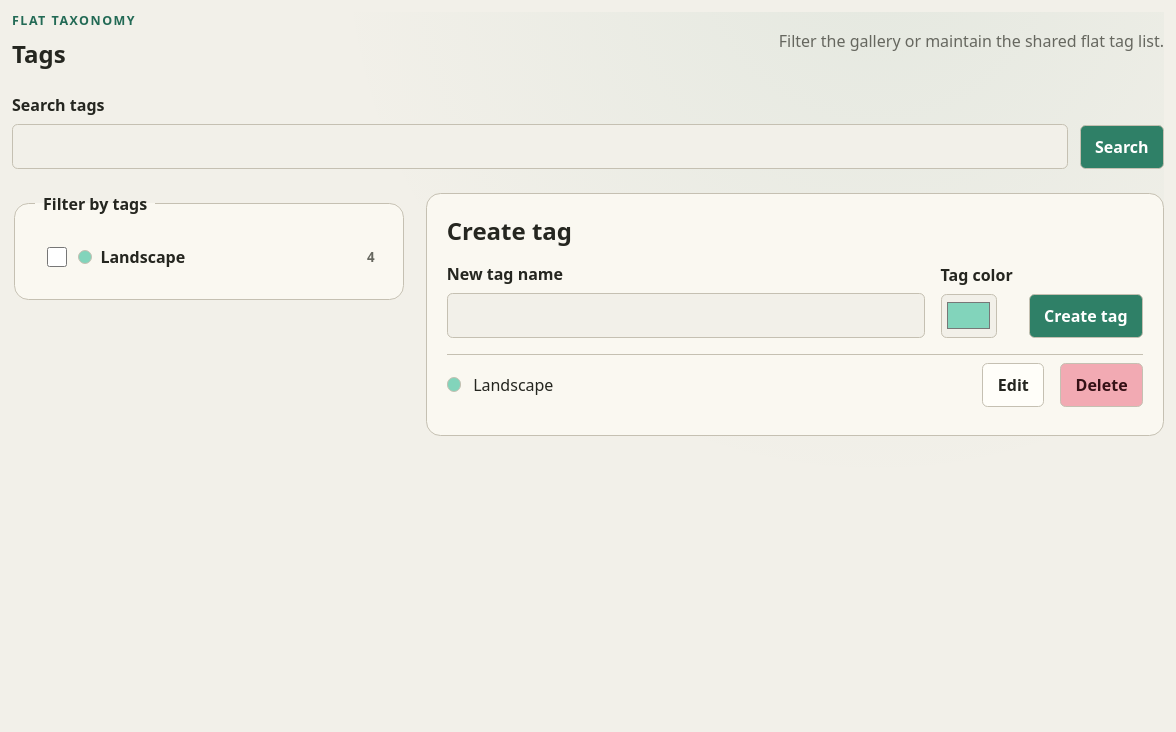
Test: curation tags › reconciles an optimistic tag edit after a conflict
Click the button with aria-label "Edit Landscape" at (1013, 385), box [982,363,1044,407]
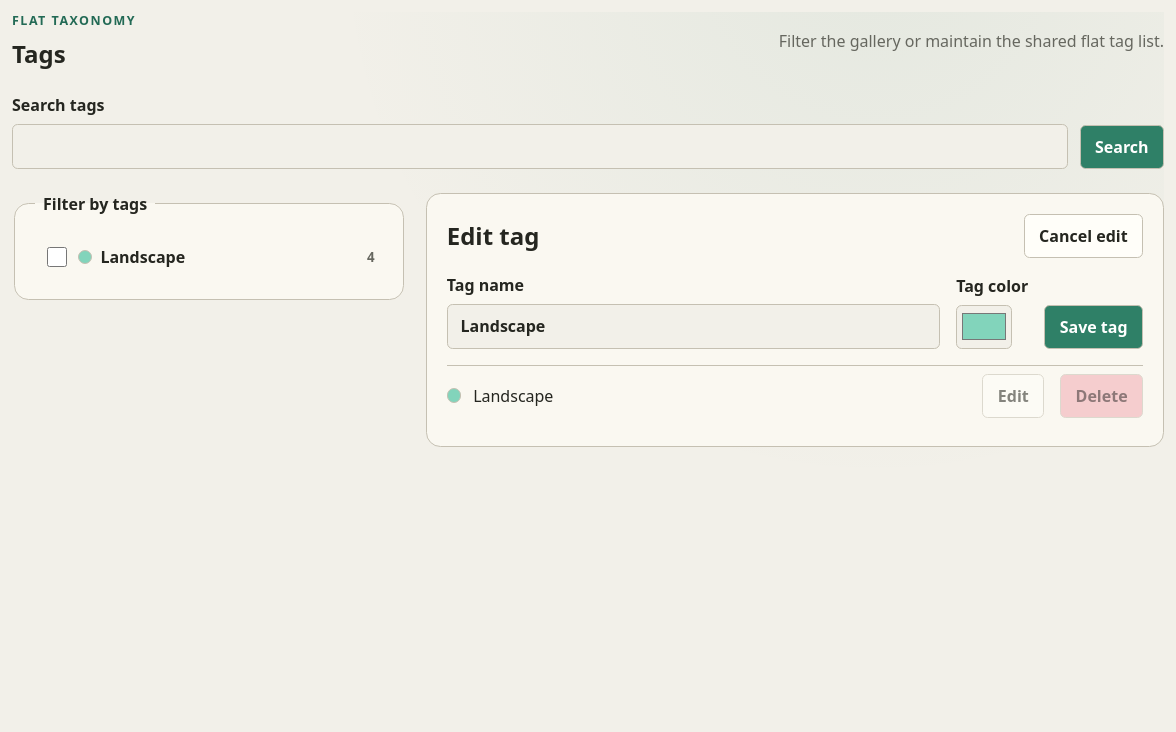
Replace the text in the field labelled "Tag name" with "Mine" at (693, 326), box [447,304,940,349]
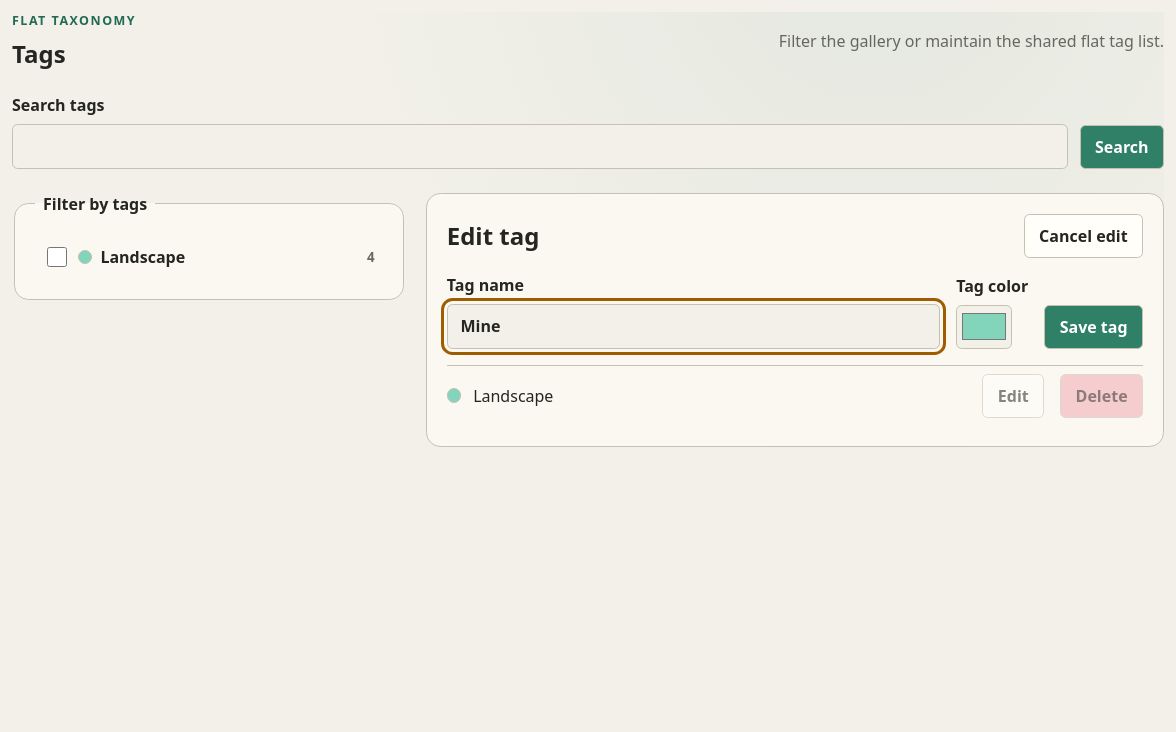
Click the button "Save tag" at (1094, 327), box [1044,305,1143,349]
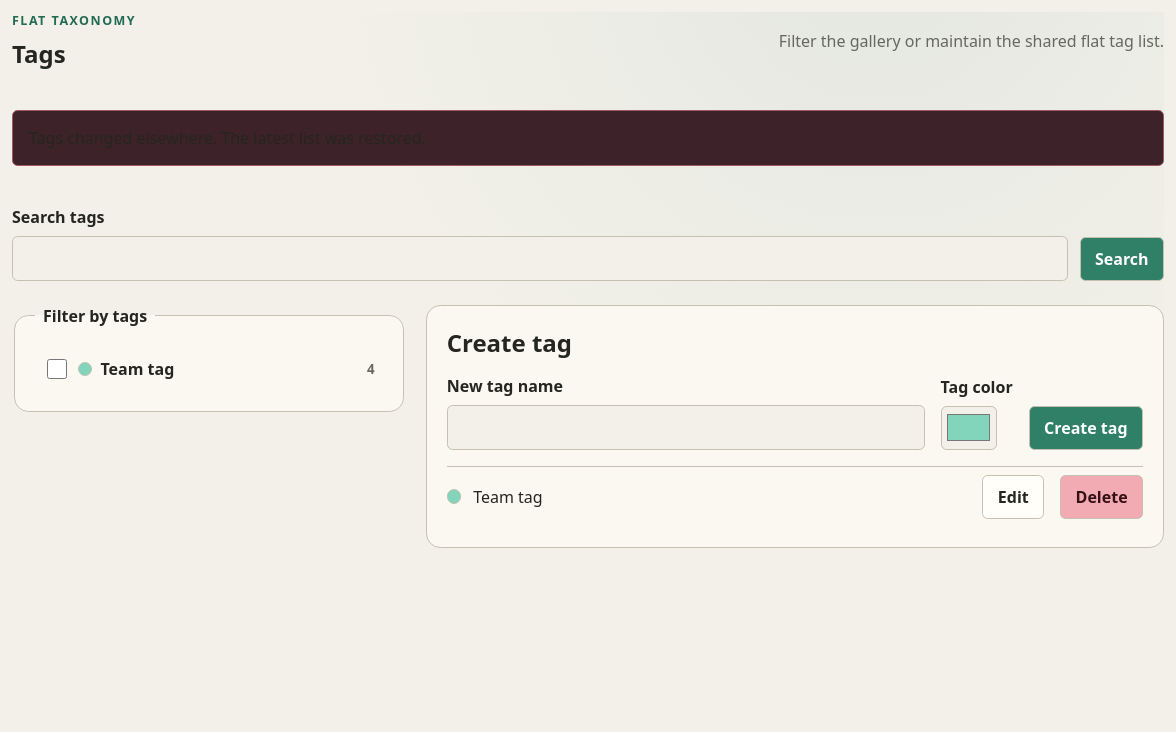
expect the button with aria-label "Edit Team tag" is shown: met, box [982,475,1044,519]
expect the message reads "Tags changed elsewhere. The latest list was restored.": met, box [29,127,426,149]
